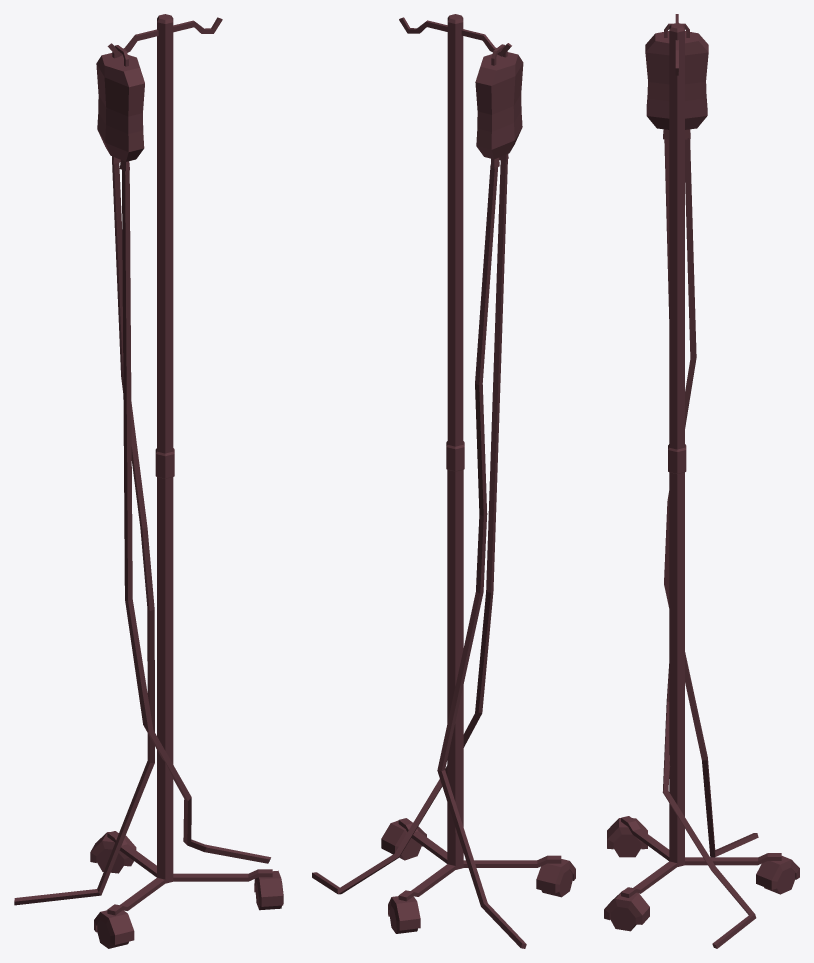
The model's file is iv-pole-water-bag.fbx.
3 views of the same model, side by side, from view 1: azimuth 30°, elevation 25°; view 2: azimuth 150°, elevation 25°; view 3: azimuth 270°, elevation 25° (orthographic). The views are drawn at different scales.
Parts seen in each view (by area): view 1: iv-pole-water-bag; view 2: iv-pole-water-bag; view 3: iv-pole-water-bag.
Part boxes in pixels (x1,y1,x2,y2): iv-pole-water-bag: (14,14,283,948); iv-pole-water-bag: (312,14,575,948); iv-pole-water-bag: (604,14,799,948).
Bounding box in the file's own units: 0.5482 × 1.96 × 0.4031.
